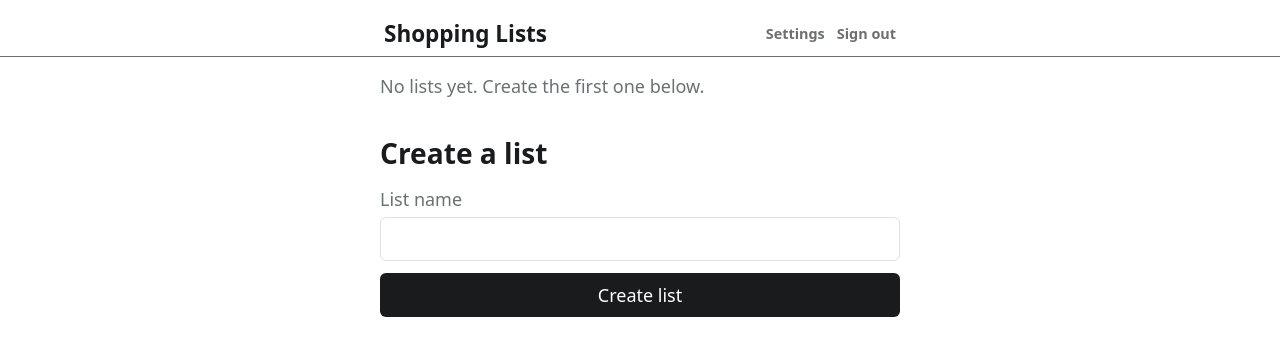
Test case: ListsView › creates a List locally and shows it immediately, even when the server is unreachable
Type "Weekend shop" into the field named "name" at (640, 239), box left=380, top=217, right=900, bottom=261
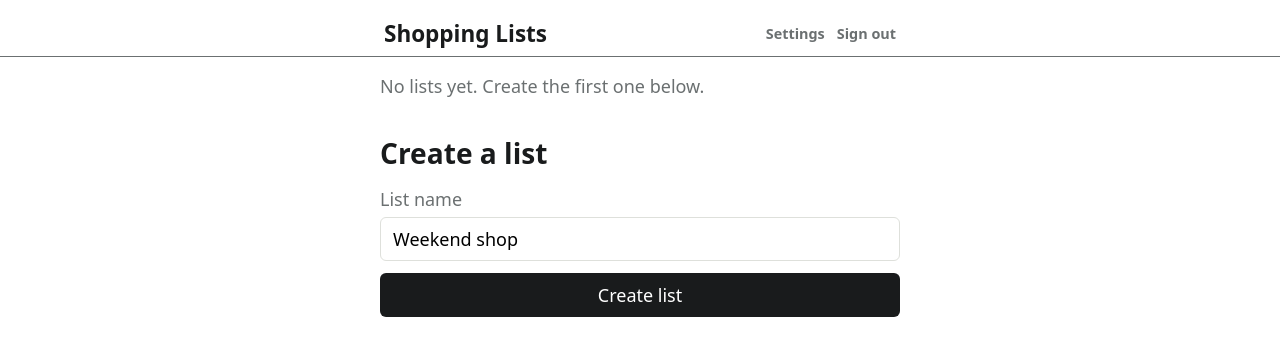
Submit the form, box left=380, top=186, right=900, bottom=317
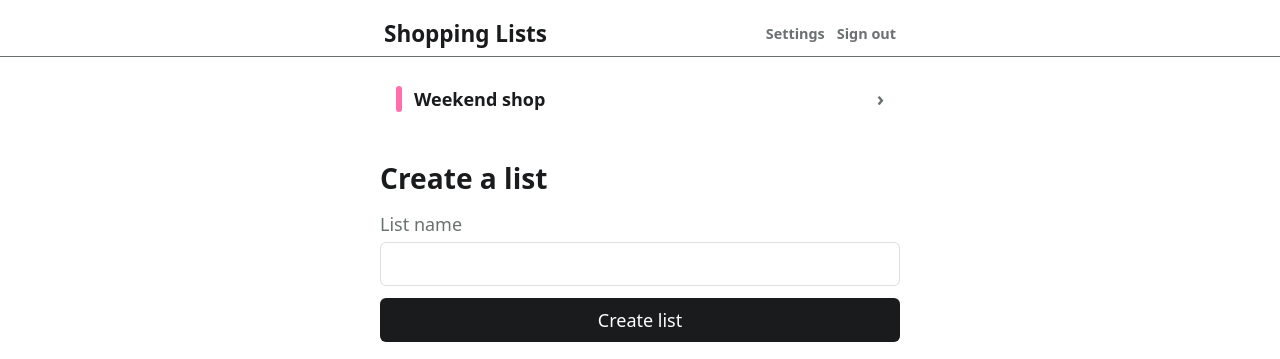
Expected: the text "Weekend shop" is shown, left=414, top=86, right=545, bottom=112
